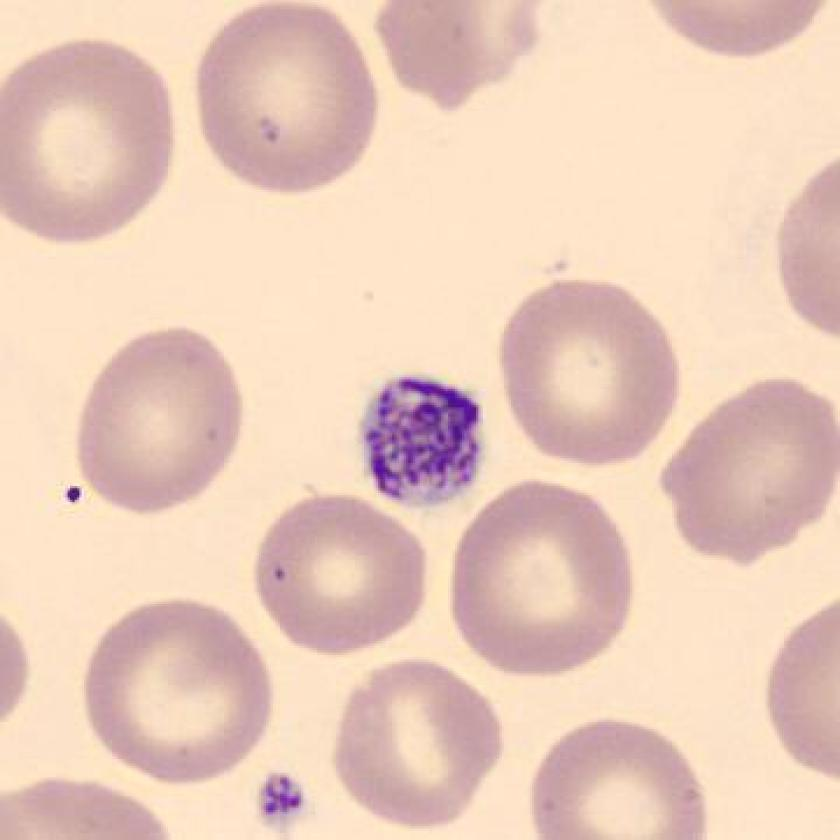platelets: (342, 362, 505, 519)
